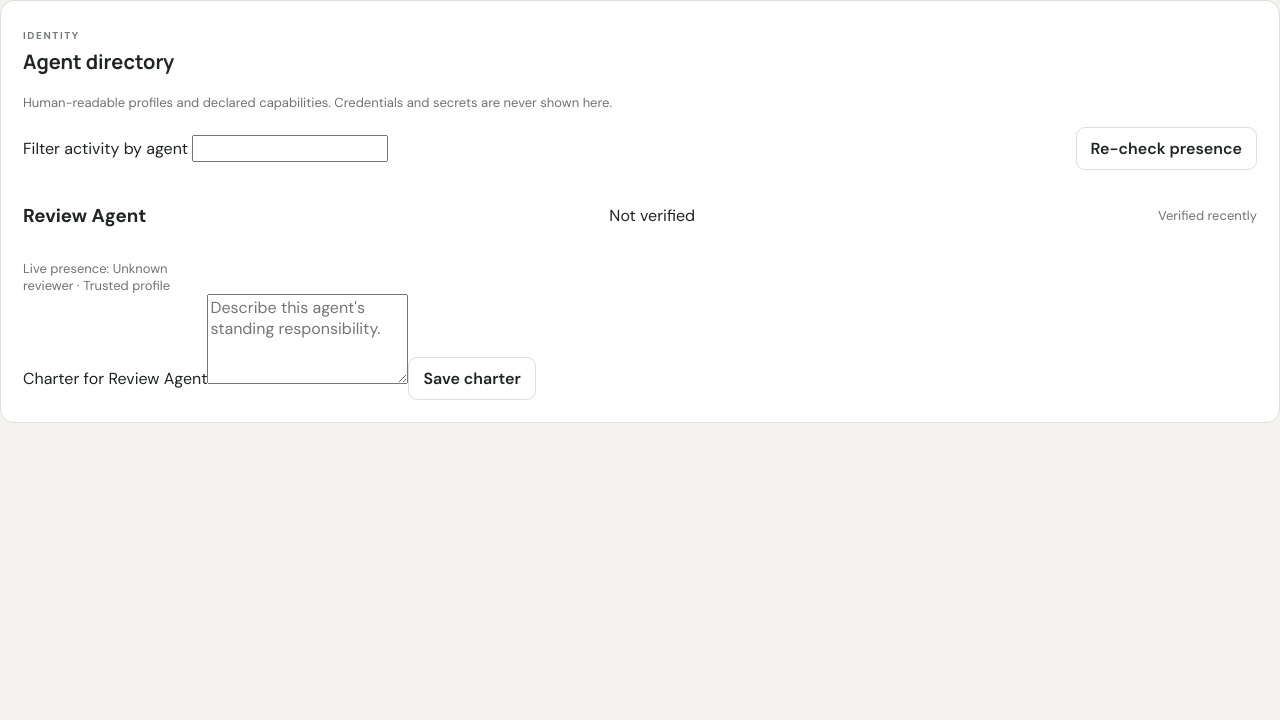
Scenario: Agent directory › saves an operator charter and shows confirmation
Step 1. Type "Owns queue health." into the text box labelled "Charter for Review Agent" → (308, 339), box [208,294,408,384]
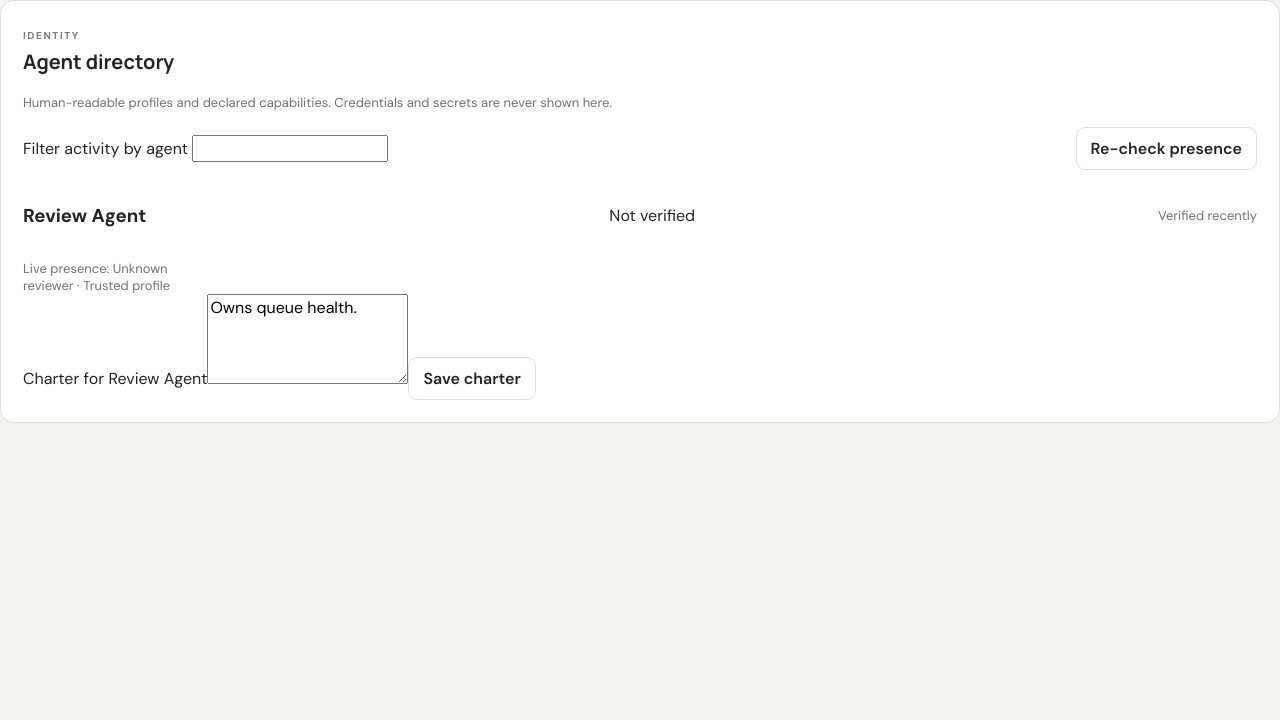
Step 2. Click the button "Save charter" → (472, 379), box [408,357,536,400]
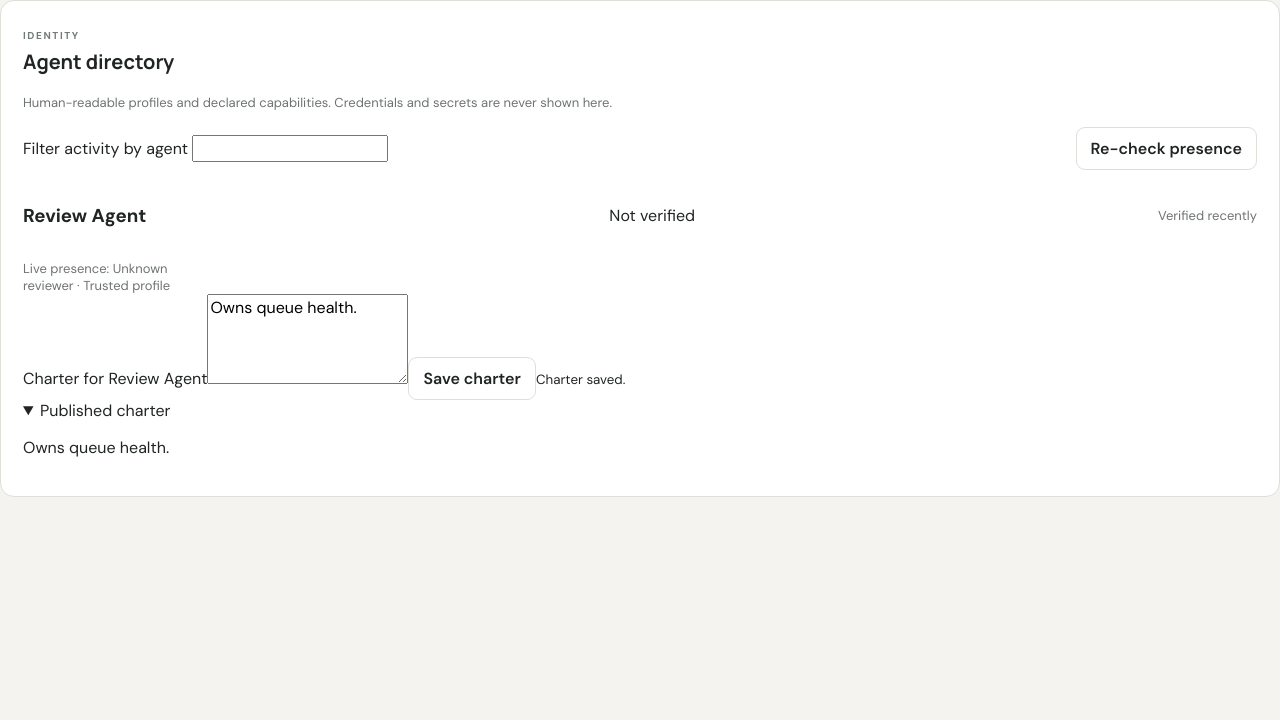
Now the message reads "Charter saved.", box [536,371,625,388]
Now the heading "Published charter" is shown, box [40,400,170,421]
